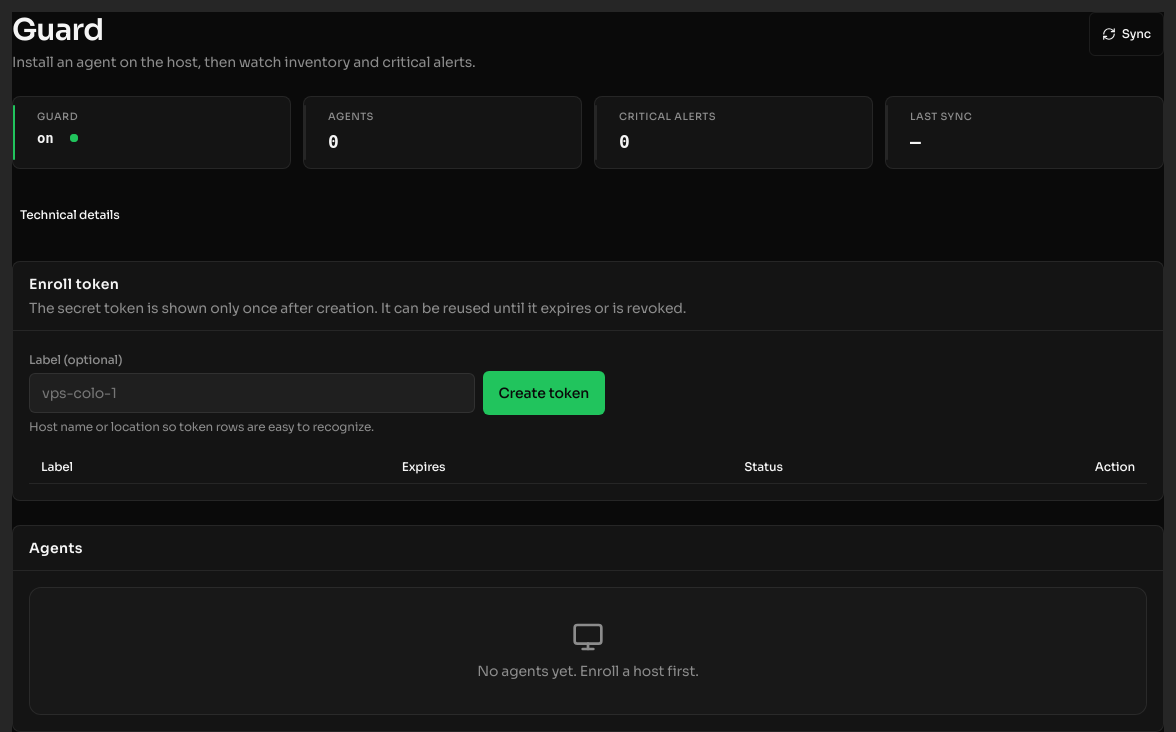
Scenario: Guard console states › toggles technical details
The width and height of the screenshot is (1176, 732).
Expected: the text "sinexis" is not shown
Click the button "Technical details". click: (70, 215)
box: [12,193,128,237]
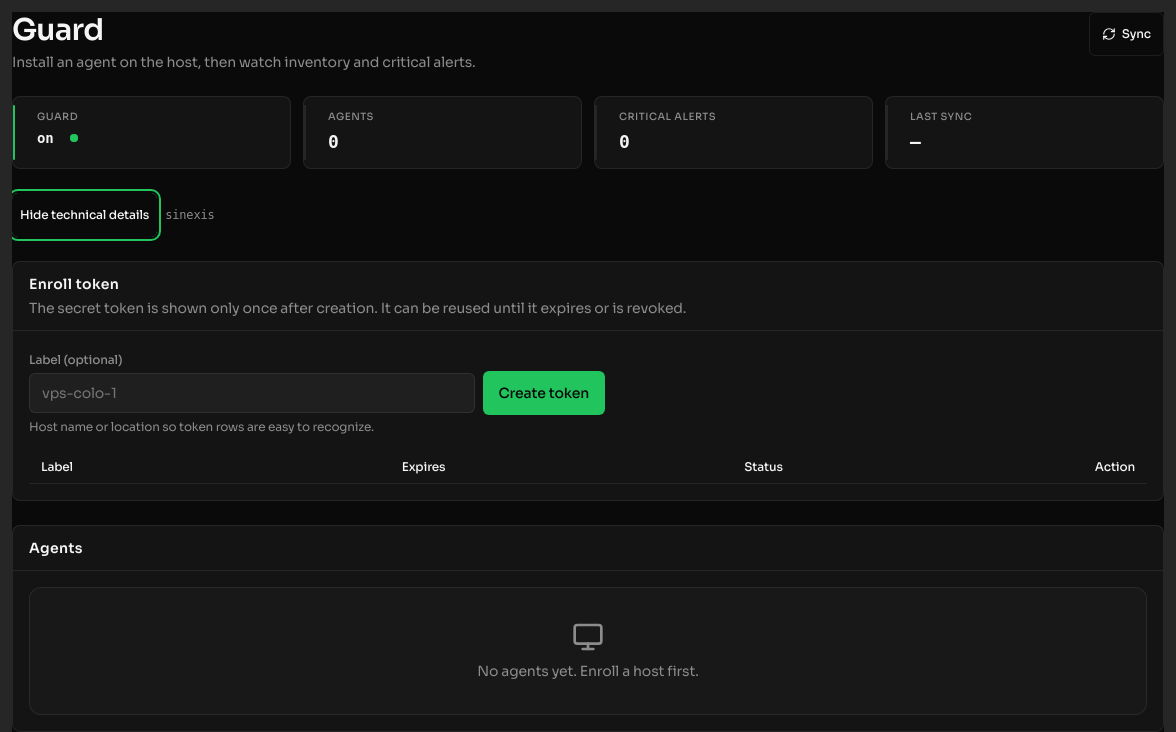
Expected: the text "sinexis" is shown, [165,207,214,223]
Expected: the button "Hide technical details" is shown, [12,193,157,237]
